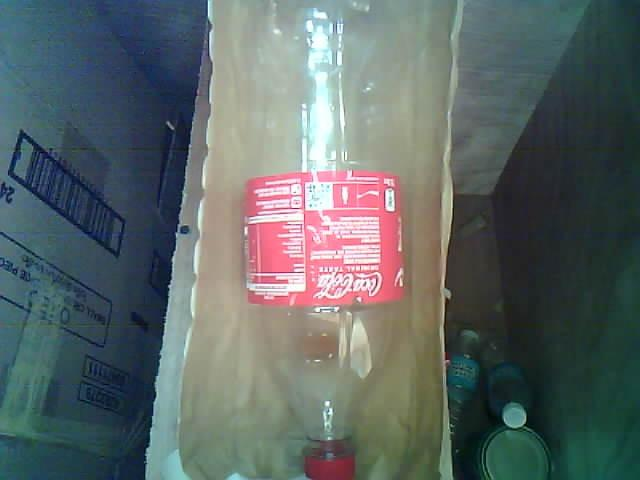large_bottle: (226, 0, 419, 480)
